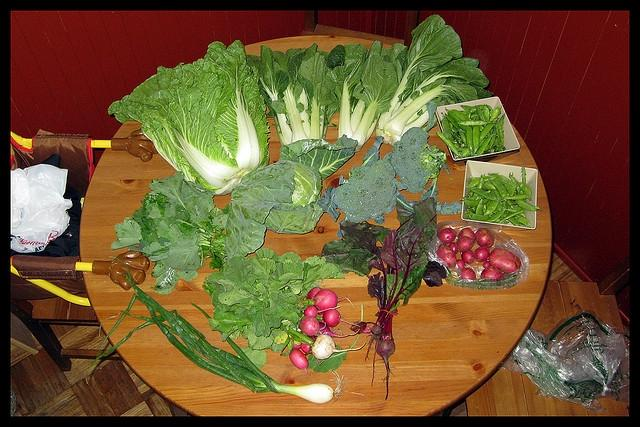broccoli: (333, 158, 397, 222), (390, 126, 450, 194)
lettuce: (108, 39, 272, 195), (375, 14, 493, 146), (225, 159, 324, 261), (349, 54, 398, 152), (293, 53, 345, 140), (296, 87, 310, 139), (143, 230, 159, 246)
radish: (288, 326, 366, 360), (313, 288, 355, 310), (316, 309, 360, 327), (298, 316, 326, 336), (289, 349, 310, 374), (304, 306, 341, 318), (308, 279, 322, 299), (292, 340, 302, 350)
